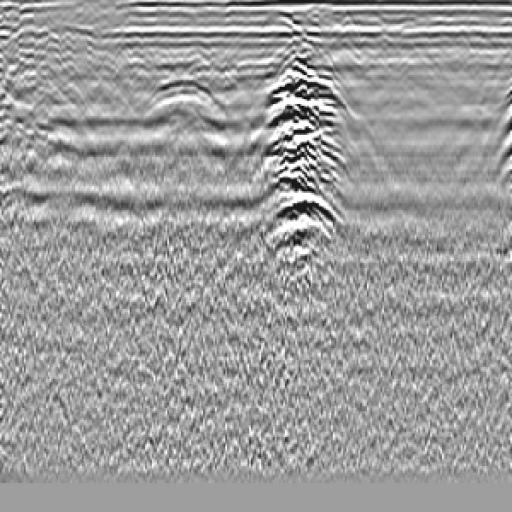metalic: (256, 57, 354, 275)
nonmetalic: (139, 64, 235, 141)
